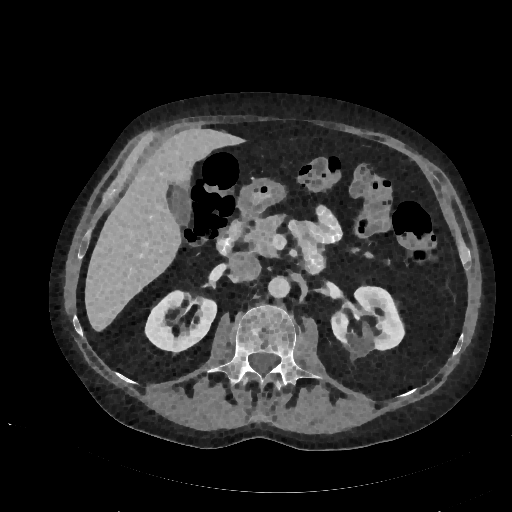Lesion: (345, 320, 379, 364)
